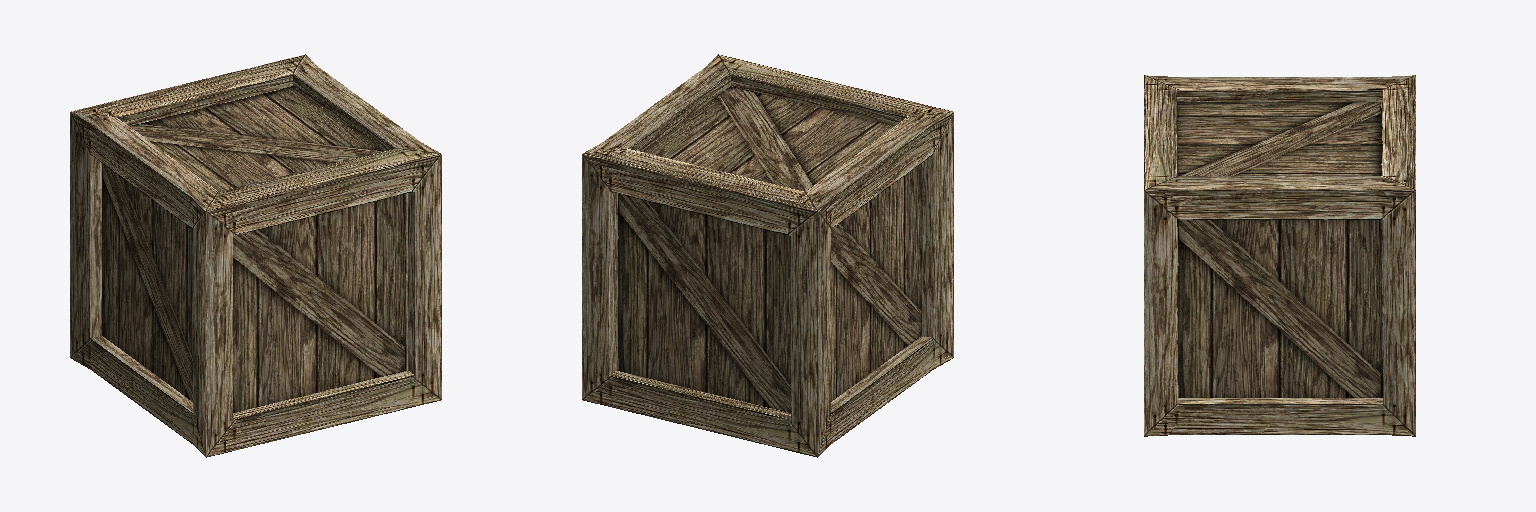
3 renders of one model, left to right at view 1: azimuth 30°, elevation 25°; view 2: azimuth 150°, elevation 25°; view 3: azimuth 270°, elevation 25°, orthographic.
Visible parts, largest first — view 1: Box01; view 2: Box01; view 3: Box01.
Boxes of the visible parts, <box> form: Box01: <box>70,54,441,457</box>; Box01: <box>582,54,953,457</box>; Box01: <box>1144,75,1415,436</box>.
Size of the model in its own units: 1 by 1 by 1.
Materials: 1 (1 with a texture image).